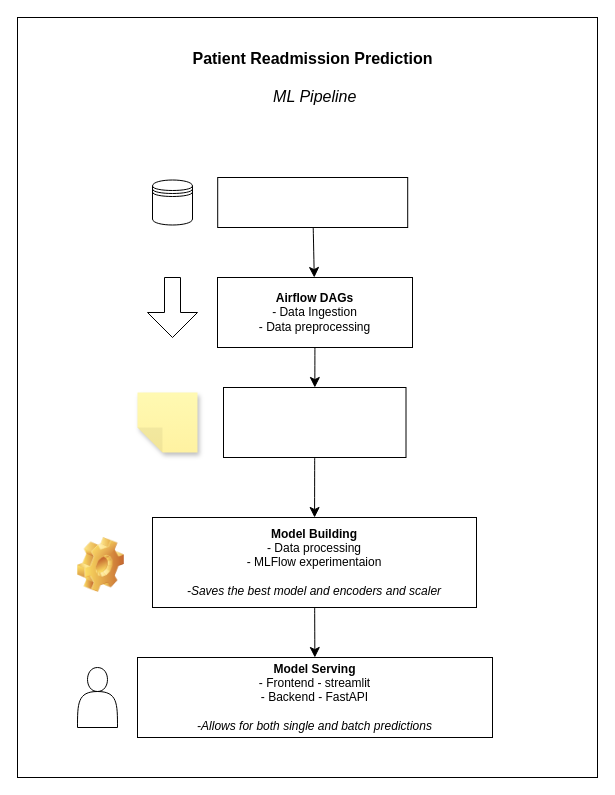
This 615x795 diagram has some shape labels left out. Here are the shapes that lost their labels. From the top down, the centre of each, then its label:
At [312,202]: "Dataset API*".
At [314,422]: "DVC - For versioning data -set as a cronjob".
